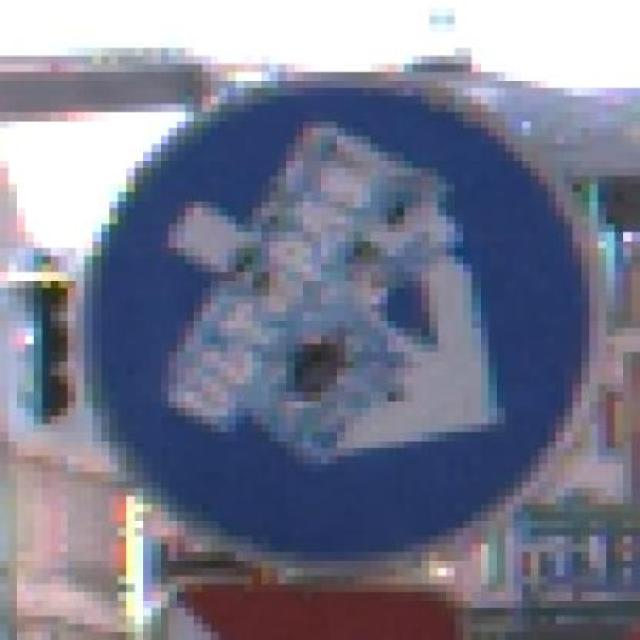Keep-Right: (42, 56, 615, 576)
